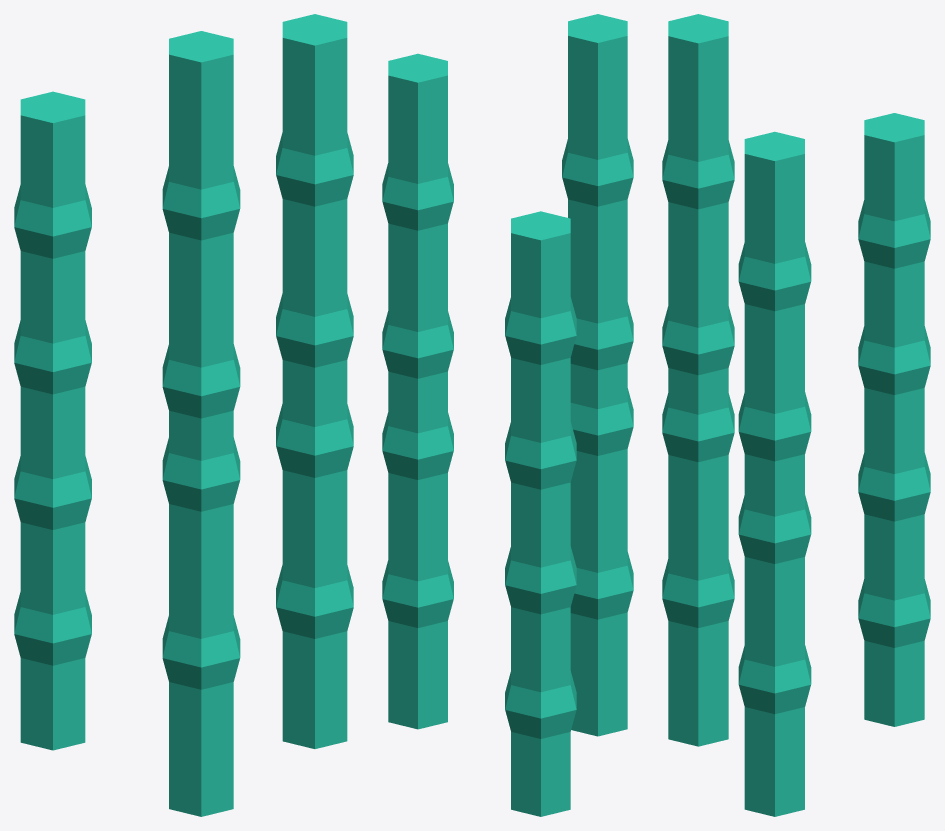
Rendered from crops_bambooStageB.dae.
3 renders of one model, left to right at view 1: azimuth 30°, elevation 25°; view 2: azimuth 150°, elevation 25°; view 3: azimuth 270°, elevation 25°, orthographic. The views are drawn at different scales.
Parts seen in each view (by area): view 1: crops_bambooStageB; view 2: crops_bambooStageB; view 3: crops_bambooStageB.
Part boxes in pixels (box(x1,y1,x2,y2)): crops_bambooStageB: box(14, 14, 353, 816); crops_bambooStageB: box(382, 14, 633, 816); crops_bambooStageB: box(662, 14, 930, 816).
Size of the model in its own units: 0.3401 by 0.89 by 0.308.
